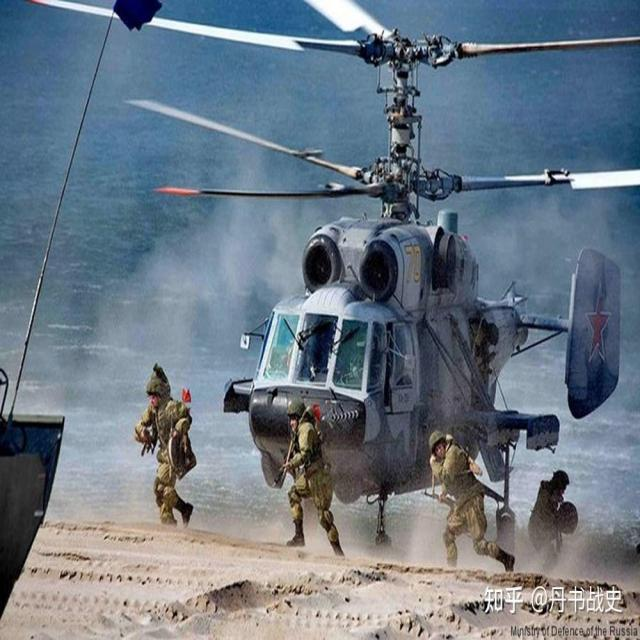MIL_HELO: (39, 0, 640, 563)
